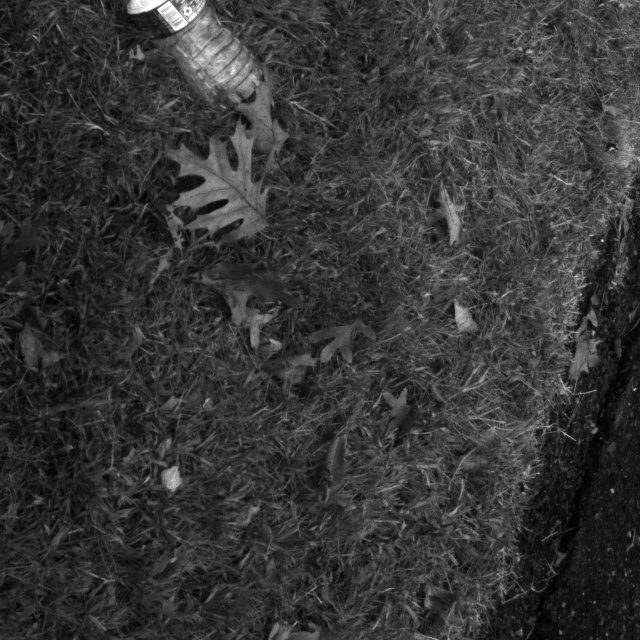bottle: (89, 0, 266, 125)
